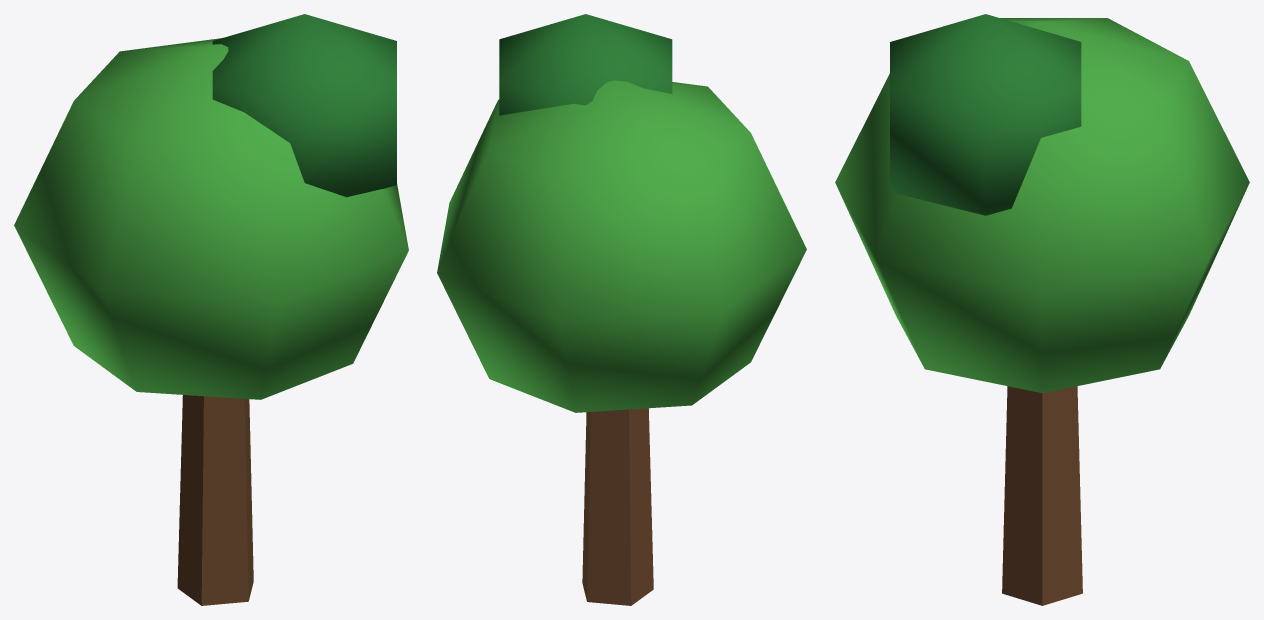
The model's file is ciudad_arbol.obj.
The picture shows the model from 3 angles, left to right: view 1: azimuth 30°, elevation 25°; view 2: azimuth 150°, elevation 25°; view 3: azimuth 270°, elevation 25°; orthographic projection. The views are drawn at different scales.
Parts seen in each view (by area): view 1: ciudad_arbol; view 2: ciudad_arbol; view 3: ciudad_arbol.
Part boxes in pixels (<box>): ciudad_arbol: <box>14,14,408,605</box>; ciudad_arbol: <box>437,14,806,605</box>; ciudad_arbol: <box>835,14,1249,605</box>.
Bounding box in the file's own units: 0.5703 × 0.94 × 0.585.
